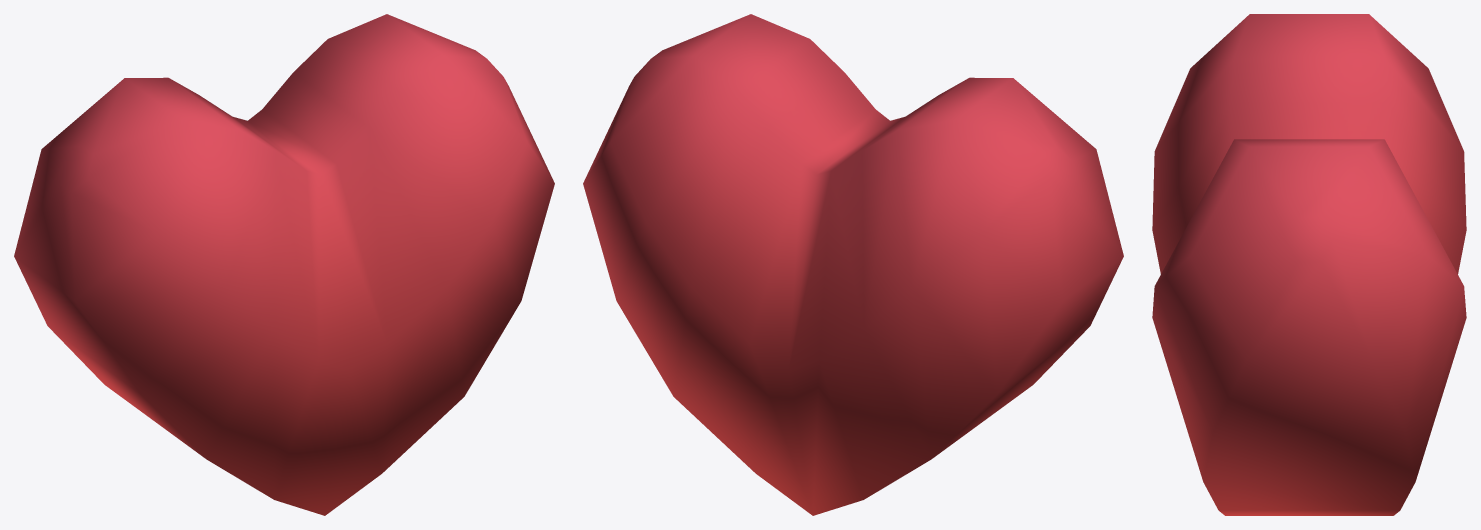
The model's file is heart.fbx.
3 renders of one model, left to right at view 1: azimuth 30°, elevation 25°; view 2: azimuth 150°, elevation 25°; view 3: azimuth 270°, elevation 25°, orthographic. The views are drawn at different scales.
Parts seen in each view (by area): view 1: heart; view 2: heart; view 3: heart.
Boxes of the visible parts, x1,y1,x2,y2 form: heart: [14, 14, 554, 515]; heart: [583, 14, 1123, 515]; heart: [1152, 14, 1466, 515].
Bounding box in the file's own units: 1.04 × 0.8667 × 0.5667.
1 material, 1 textured.
